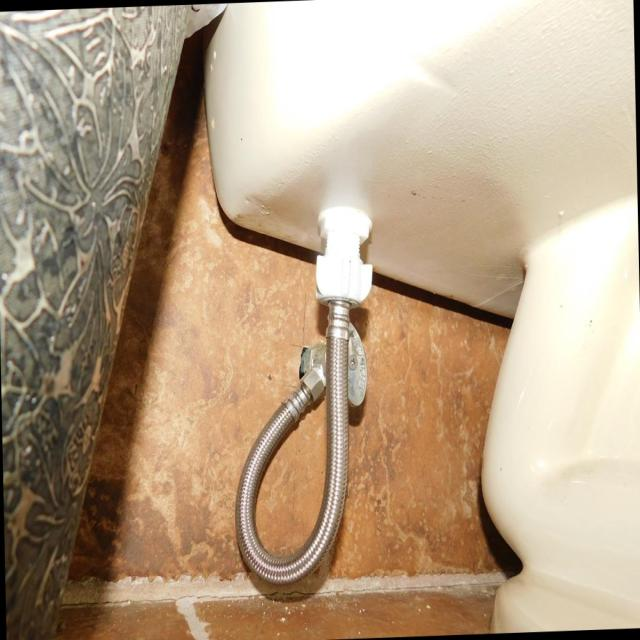good_coupler: (312, 250, 375, 304)
good_line: (224, 296, 353, 591)
good_valve: (310, 322, 368, 410)
